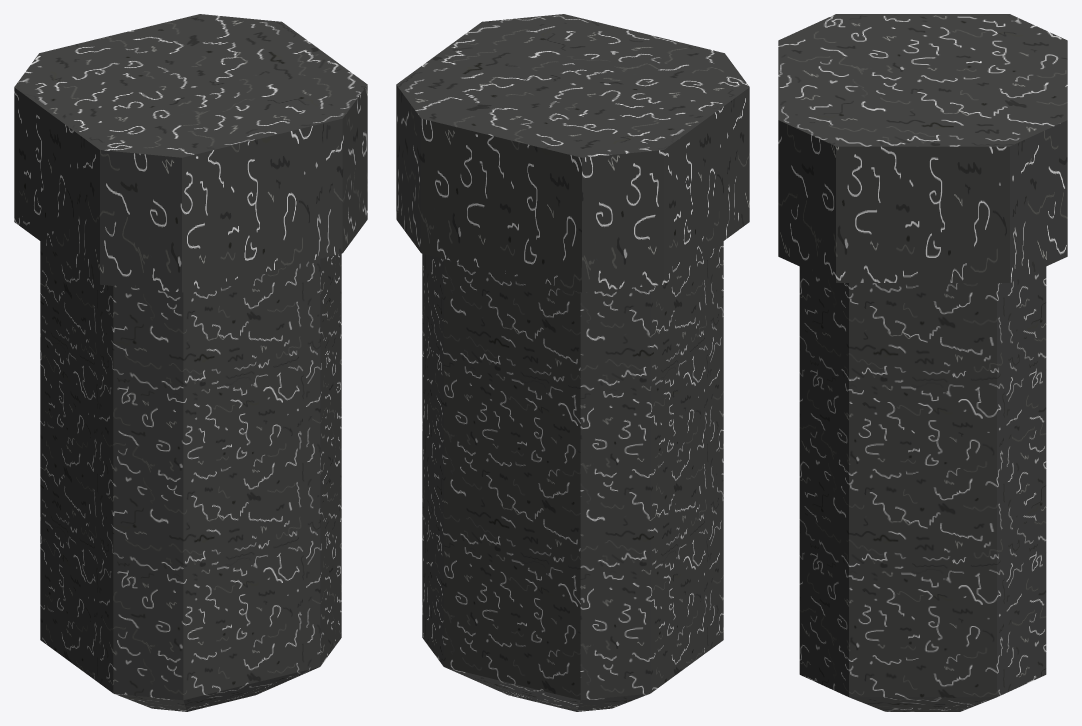
The model's file is socks.fbx.
3 renders of one model, left to right at view 1: azimuth 30°, elevation 25°; view 2: azimuth 150°, elevation 25°; view 3: azimuth 270°, elevation 25°, orthographic.
Parts seen in each view (by area): view 1: pCube1; view 2: pCube1; view 3: pCube1.
Boxes of the visible parts, bbox=[...] form: pCube1: bbox=[14, 14, 367, 711]; pCube1: bbox=[396, 14, 749, 711]; pCube1: bbox=[778, 14, 1067, 711].
Bounding box in the file's own units: 1.17 × 2.48 × 1.08.
1 material, 1 textured.
